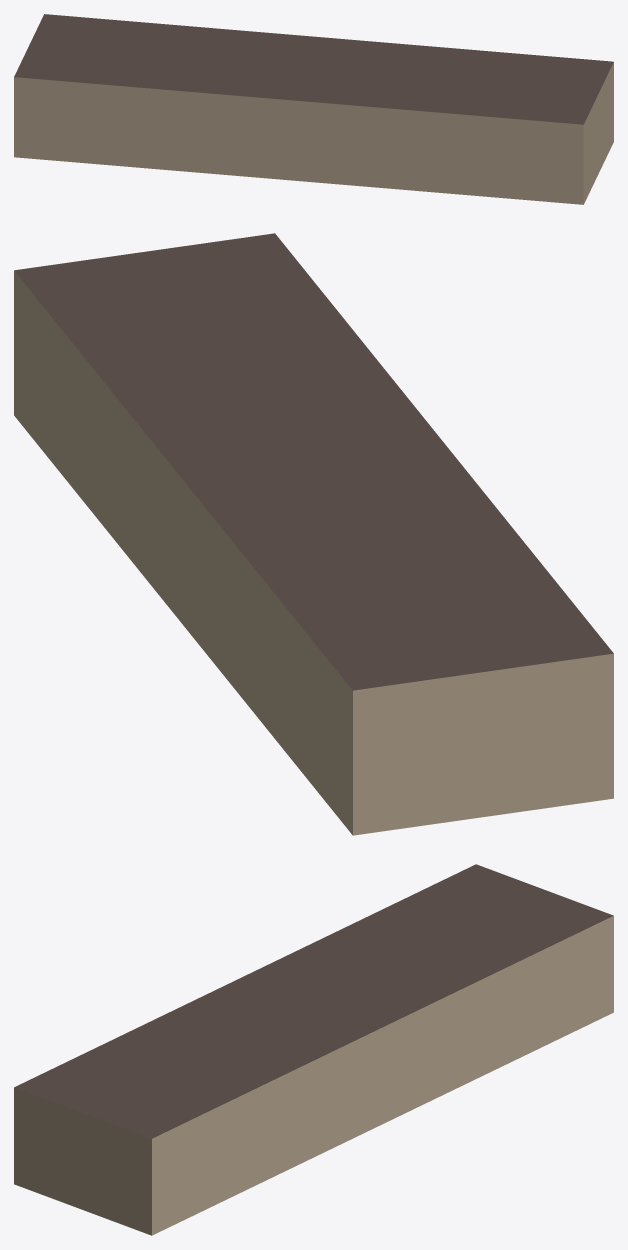
3 views of the same model, one above another, from view 1: azimuth 30°, elevation 25°; view 2: azimuth 150°, elevation 25°; view 3: azimuth 270°, elevation 25° (orthographic). The views are drawn at different scales.
Parts seen in each view (by area): view 1: HP-w859488846; view 2: HP-w859488846; view 3: HP-w859488846.
Boxes of the visible parts, box(x1,y1,x2,y2) form: HP-w859488846: box(14, 14, 613, 204); HP-w859488846: box(14, 233, 613, 835); HP-w859488846: box(14, 864, 613, 1235).
Size of the model in its own units: 54.72 by 9 by 50.51.
